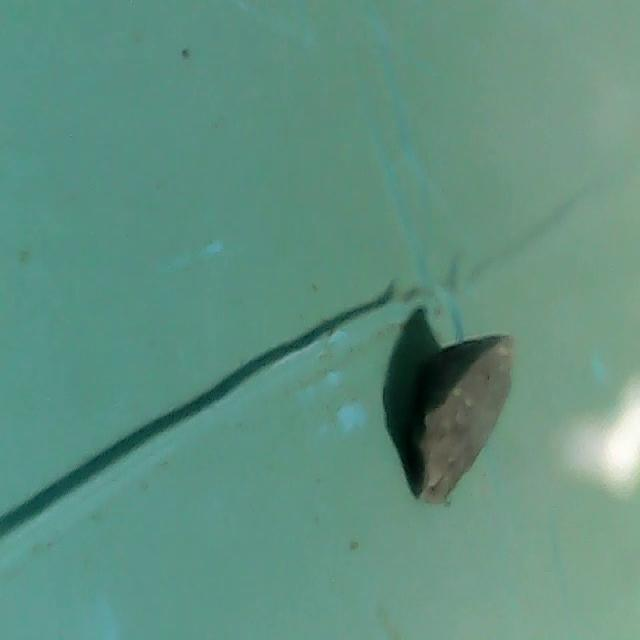rock: (396, 320, 520, 508)
